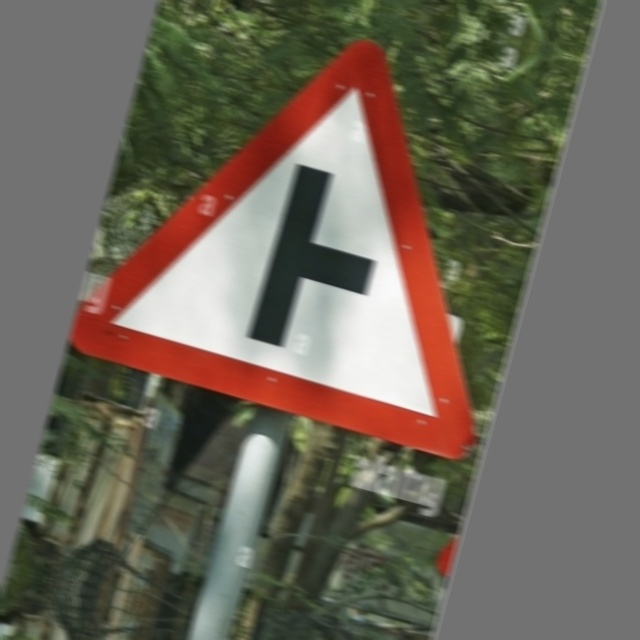Side_Road_Right: (99, 1, 554, 461)
